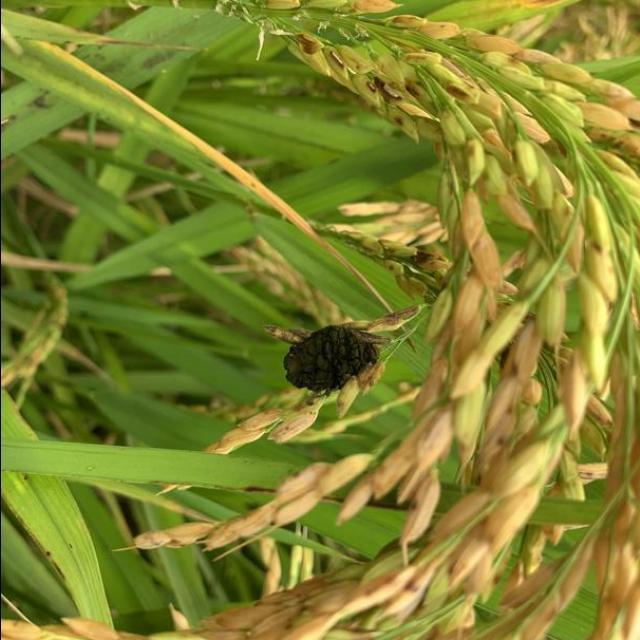Leaf_Scald: (280, 324, 383, 394)
